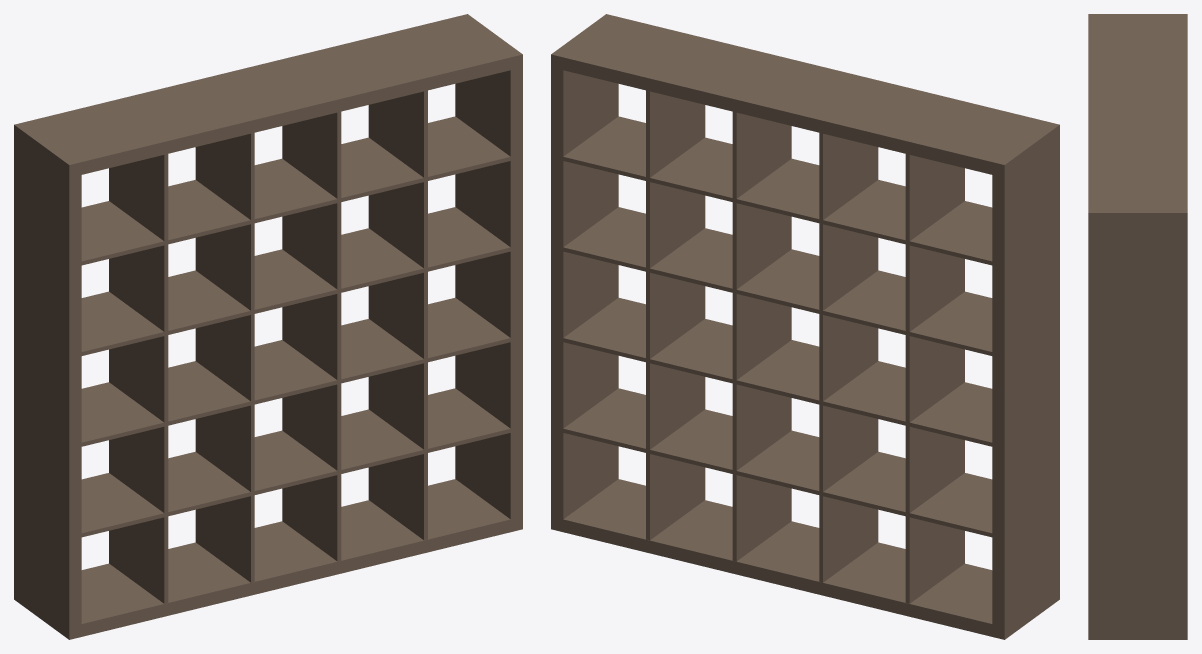
The model's file is grosse_etagere.dae.
3 views of the same model, side by side, from view 1: azimuth 30°, elevation 25°; view 2: azimuth 150°, elevation 25°; view 3: azimuth 270°, elevation 25° (orthographic). The views are drawn at different scales.
Parts seen in each view (by area): view 1: Layer_l; view 2: Layer_l; view 3: Layer_l.
Boxes of the visible parts, box(x1,y1,x2,y2) form: Layer_l: box(14, 14, 522, 639); Layer_l: box(551, 14, 1059, 639); Layer_l: box(1088, 14, 1187, 639).
Bounding box in the file's own units: 4.7 × 0.9906 × 4.7.
